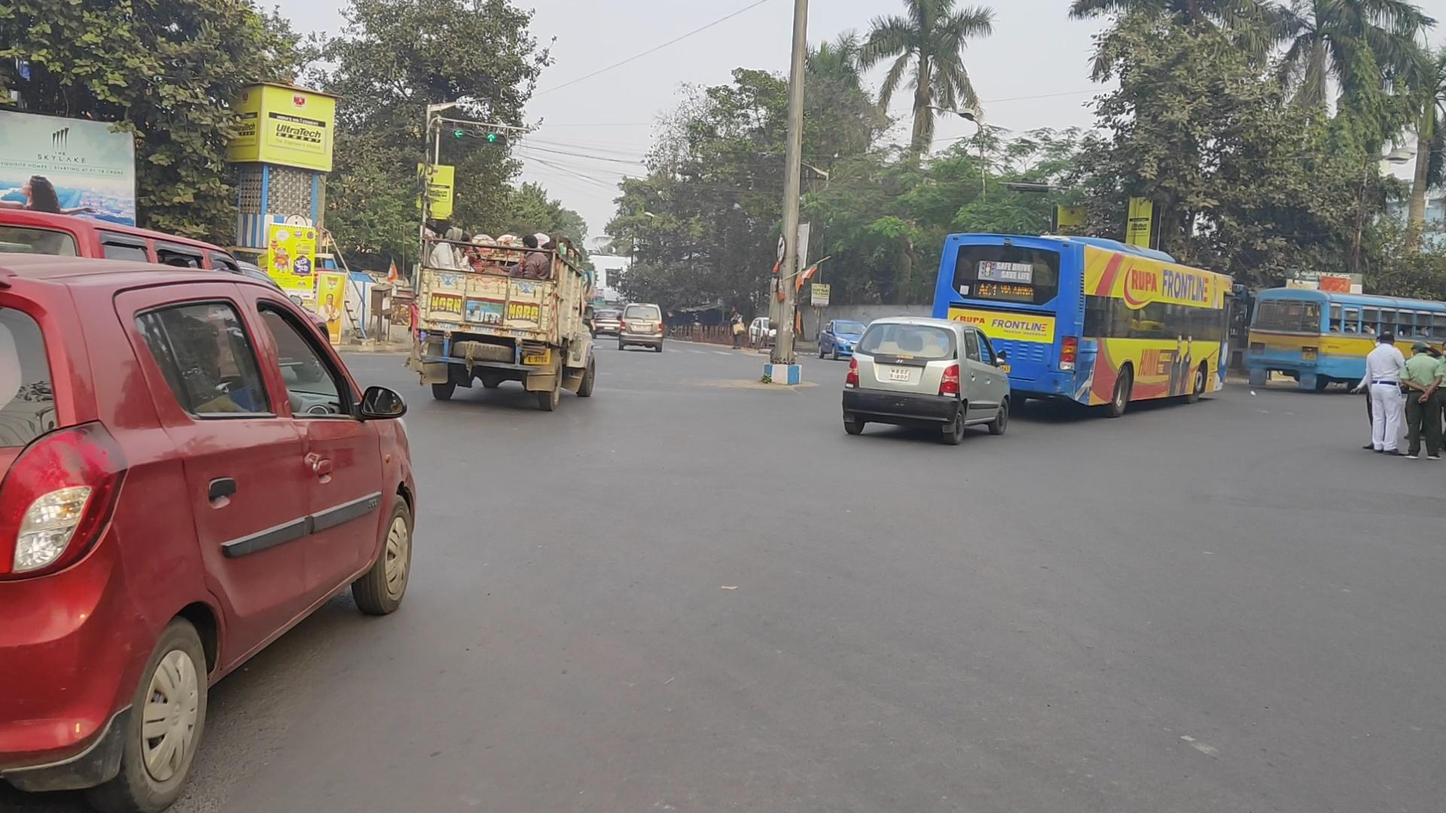Bus: (931, 233, 1244, 418), (1244, 287, 1445, 394)
car: (1, 199, 417, 813), (842, 315, 1011, 445), (618, 302, 664, 353), (817, 318, 868, 361), (748, 316, 797, 351), (593, 308, 622, 342)
van: (405, 226, 596, 412)
